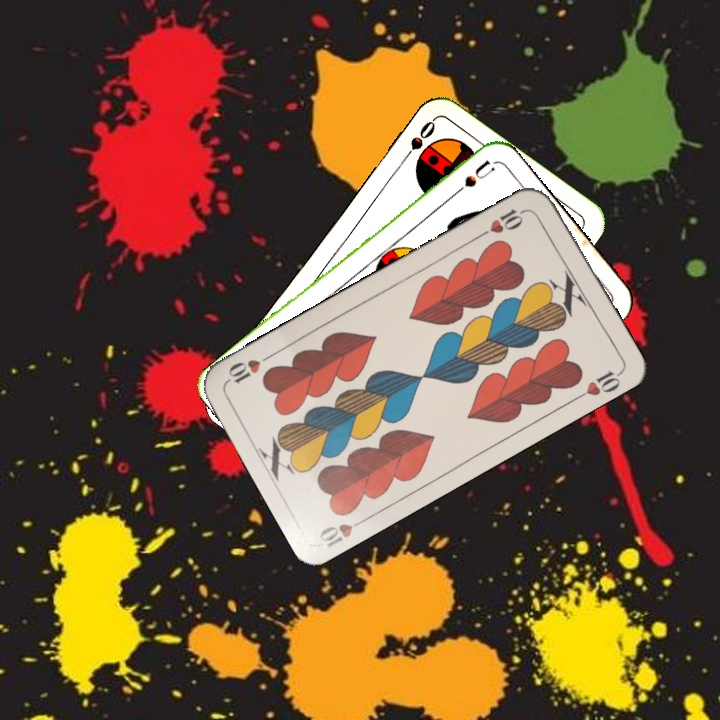H10: (315, 512, 371, 551), (476, 204, 530, 240)
SO: (396, 116, 438, 168)
SU: (445, 156, 497, 202)
